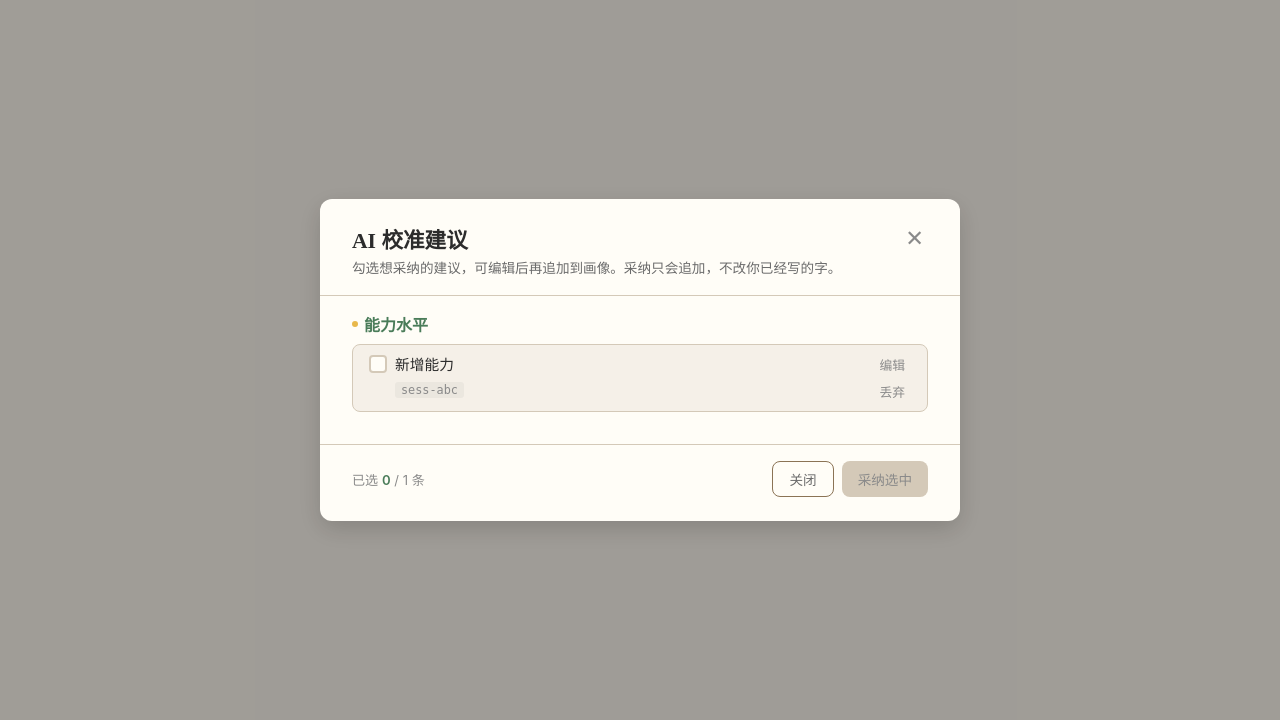
Test: SuggestionsModal › accept failure shows an explicit error (C-6)
Click the button with test id "suggestion-check-s1". click: (378, 364)
box: 369,355 -> 387,373
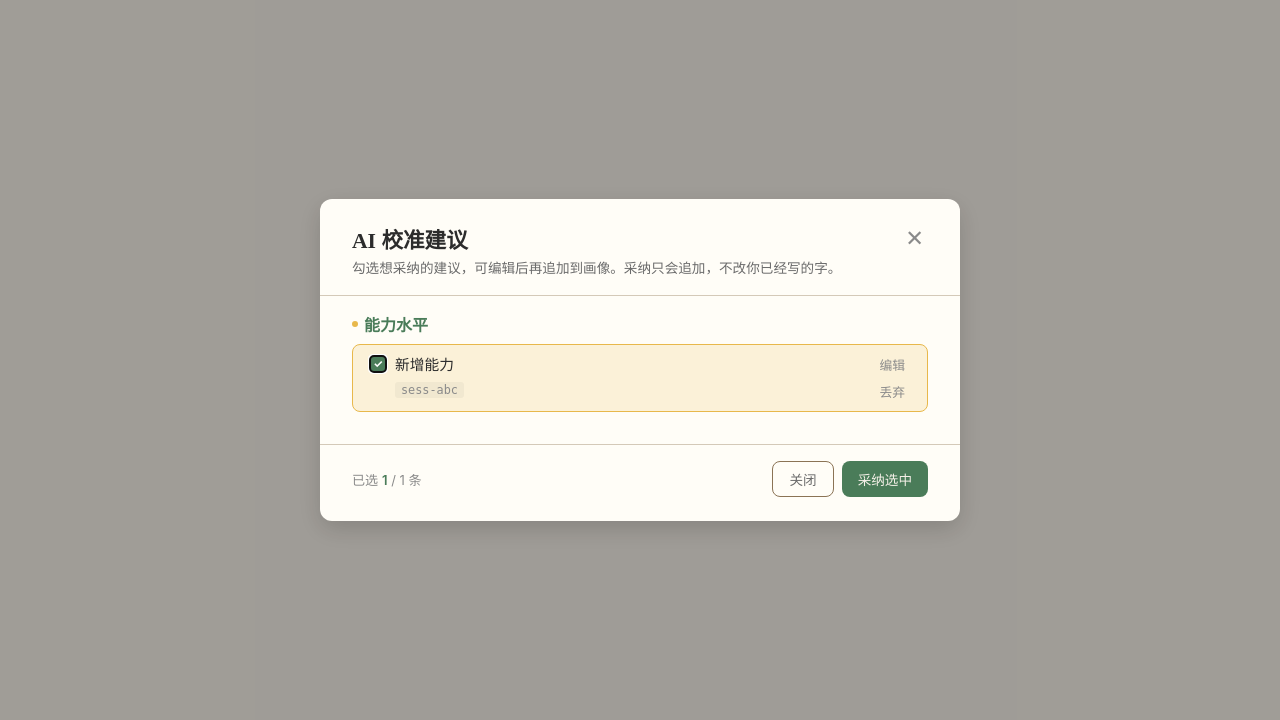
Click the button with test id "suggestions-accept". click: (885, 479)
box: 842,461 -> 928,497
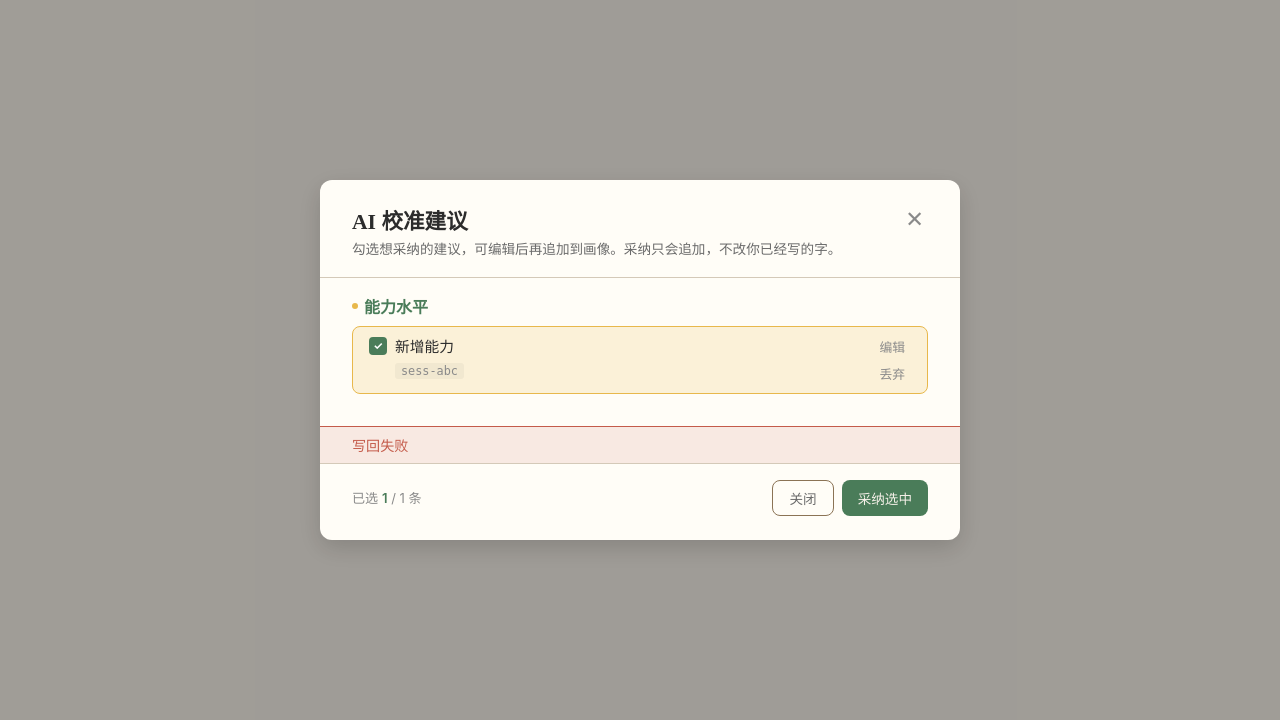
Now the text "写回失败" is shown, box 320,426 -> 960,463
Now the text with test id "suggestions-error" reads "写回失败", box 352,437 -> 408,454
